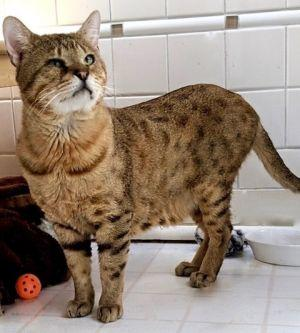bengal: (1, 8, 120, 123)
